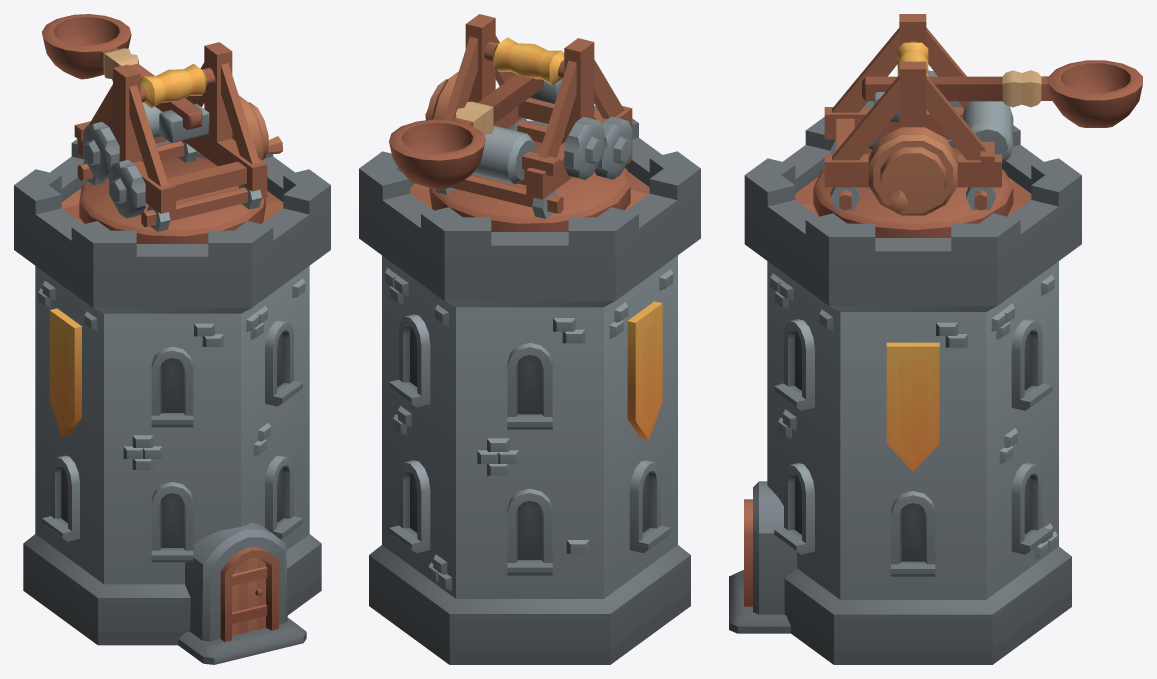
File: kaykit-medieval-hexagon-pack-building-tower-catapult-yellow.glb
3 renders of one model, left to right at view 1: azimuth 30°, elevation 25°; view 2: azimuth 150°, elevation 25°; view 3: azimuth 270°, elevation 25°, orthographic. The views are drawn at different scales.
Parts seen in each view (by area): view 1: building_tower_catapult_yellow, catapult_turret_yellow, catapult_arm_yellow; view 2: building_tower_catapult_yellow, catapult_turret_yellow, catapult_arm_yellow; view 3: building_tower_catapult_yellow, catapult_turret_yellow, catapult_arm_yellow.
Boxes of the visible parts, bbox=[...] form: building_tower_catapult_yellow: bbox=[14, 139, 330, 664]; catapult_turret_yellow: bbox=[74, 42, 283, 243]; catapult_arm_yellow: bbox=[42, 14, 209, 142]; building_tower_catapult_yellow: bbox=[359, 106, 700, 664]; catapult_turret_yellow: bbox=[425, 14, 632, 231]; catapult_arm_yellow: bbox=[389, 74, 562, 189]; building_tower_catapult_yellow: bbox=[729, 117, 1081, 664]; catapult_turret_yellow: bbox=[813, 14, 1013, 237]; catapult_arm_yellow: bbox=[862, 60, 1142, 127].
Bounding box in the file's own units: 0.9297 × 1.96 × 1.3.
Materials: 1 (1 with a texture image).
